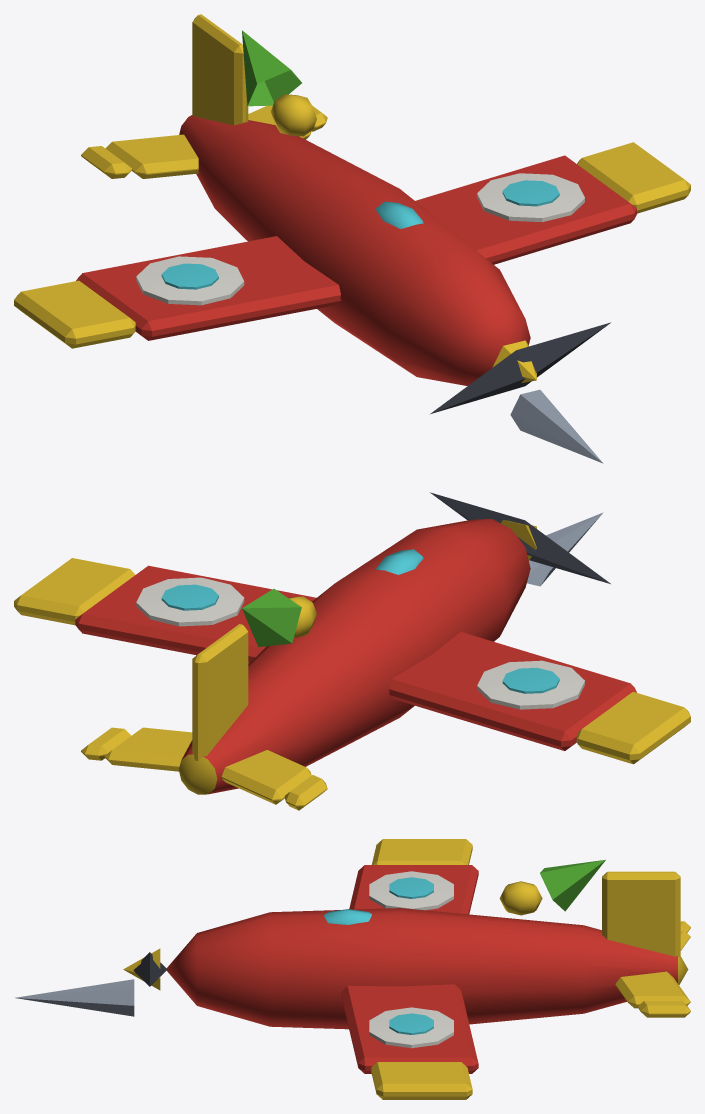
3 views of the same model, one above another, from view 1: azimuth 30°, elevation 25°; view 2: azimuth 150°, elevation 25°; view 3: azimuth 270°, elevation 25° (orthographic). The views are drawn at different scales.
Visible parts, largest first — view 1: as_0_base, as_1_torreta; view 2: as_0_base, as_1_torreta; view 3: as_0_base, as_1_torreta.
Part boxes in pixels (<box>): as_0_base: <box>14,14,690,463</box>; as_1_torreta: <box>430,322,610,413</box>; as_0_base: <box>14,512,690,810</box>; as_1_torreta: <box>430,492,610,583</box>; as_0_base: <box>15,839,690,1099</box>; as_1_torreta: <box>123,948,166,990</box>.
Bounding box in the file's own units: 1.13 × 0.3497 × 1.3.
